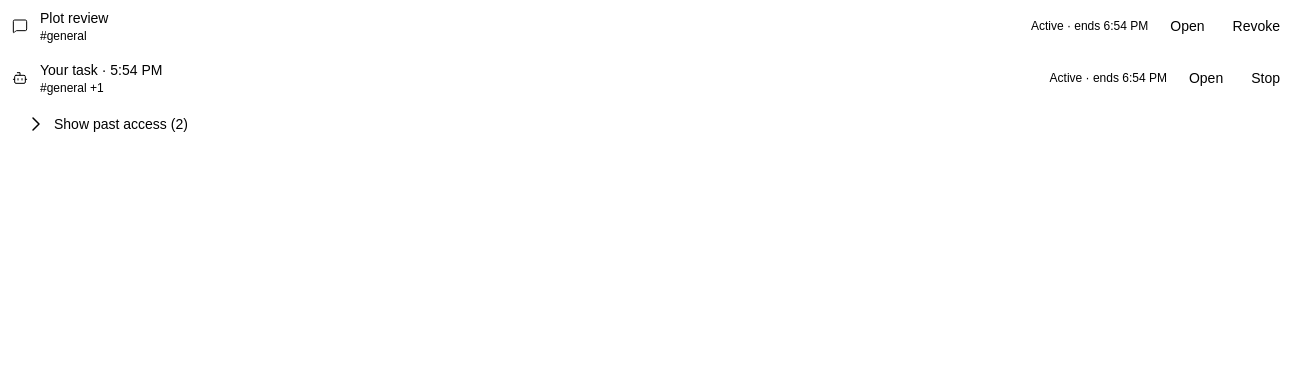
Test: the Access tab › keeps a revoked grant under past access after the chat is granted again
The image size is (1304, 379).
What coordinates should you click on to do the following:
click the button with aria-label "Revoke access for Plot review"
I would click on:
 (1256, 26)
Its box is [1220,16,1292,36].
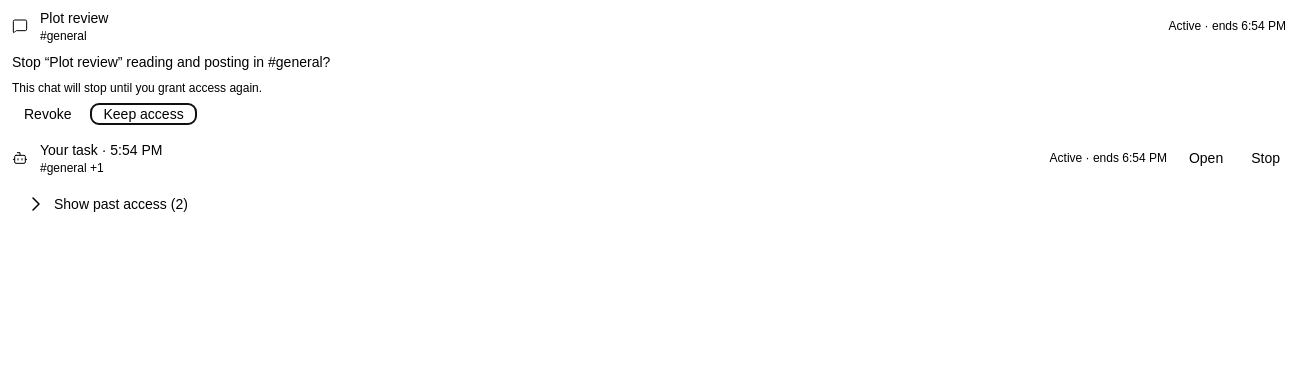
What coordinates should you click on to do the following:
click the button "Revoke"
I would click on:
 (48, 114)
Its box is [12,104,84,124].
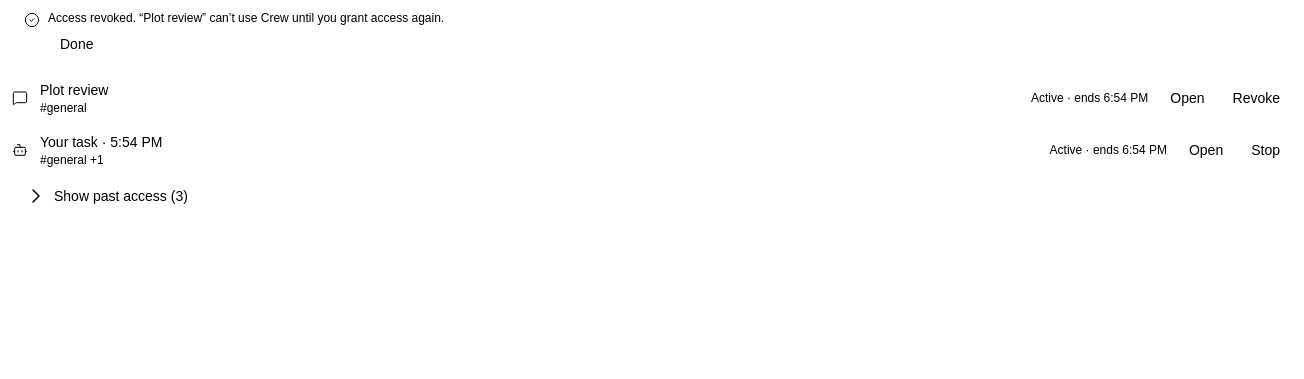
What coordinates should you click on to do the following:
click the button "Show past access (3)"
I would click on:
 (106, 196)
Its box is [12,184,200,208].
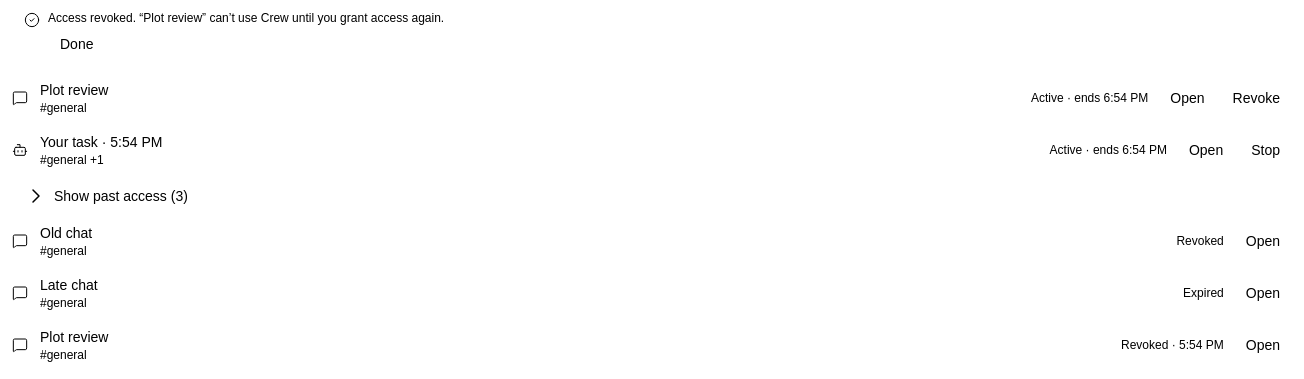
Check: the list item with test id "crew-access-row" shows "Revoked", box [1121,338,1224,352]
Check: the list item with test id "crew-access-row" shows "#general", box [40,348,87,362]
